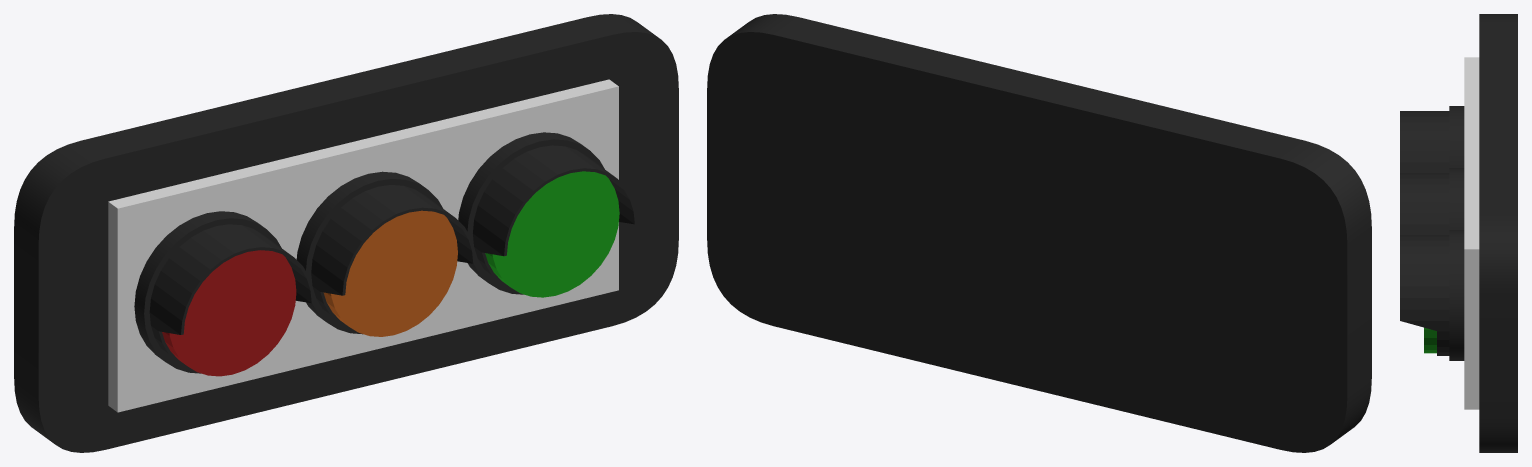
The model's file is 신호등.FBX.
3 views of the same model, side by side, from view 1: azimuth 30°, elevation 25°; view 2: azimuth 150°, elevation 25°; view 3: azimuth 270°, elevation 25° (orthographic). The views are drawn at different scales.
Parts seen in each view (by area): view 1: Box001, Box002, Object001, Object002, Object003, Cylinder001, Cylinder002, Cylinder003; view 2: Box001; view 3: Box001, Cylinder003, Box002, Cylinder001, Cylinder002, Object003.
Part boxes in pixels (<box>): Box001: <box>14,14,678,452</box>; Box002: <box>108,79,618,412</box>; Object001: <box>162,250,296,376</box>; Object002: <box>323,210,457,336</box>; Object003: <box>485,171,619,297</box>; Cylinder001: <box>134,211,314,373</box>; Cylinder002: <box>296,171,475,334</box>; Cylinder003: <box>458,132,637,294</box>; Box001: <box>707,14,1371,452</box>; Box001: <box>1479,14,1517,452</box>; Cylinder003: <box>1400,230,1464,360</box>; Box002: <box>1464,57,1479,409</box>; Cylinder001: <box>1400,106,1464,172</box>; Cylinder002: <box>1400,168,1464,234</box>; Object003: <box>1424,327,1436,353</box>.
Bounding box in the file's own units: 115 × 50 × 23.34.
